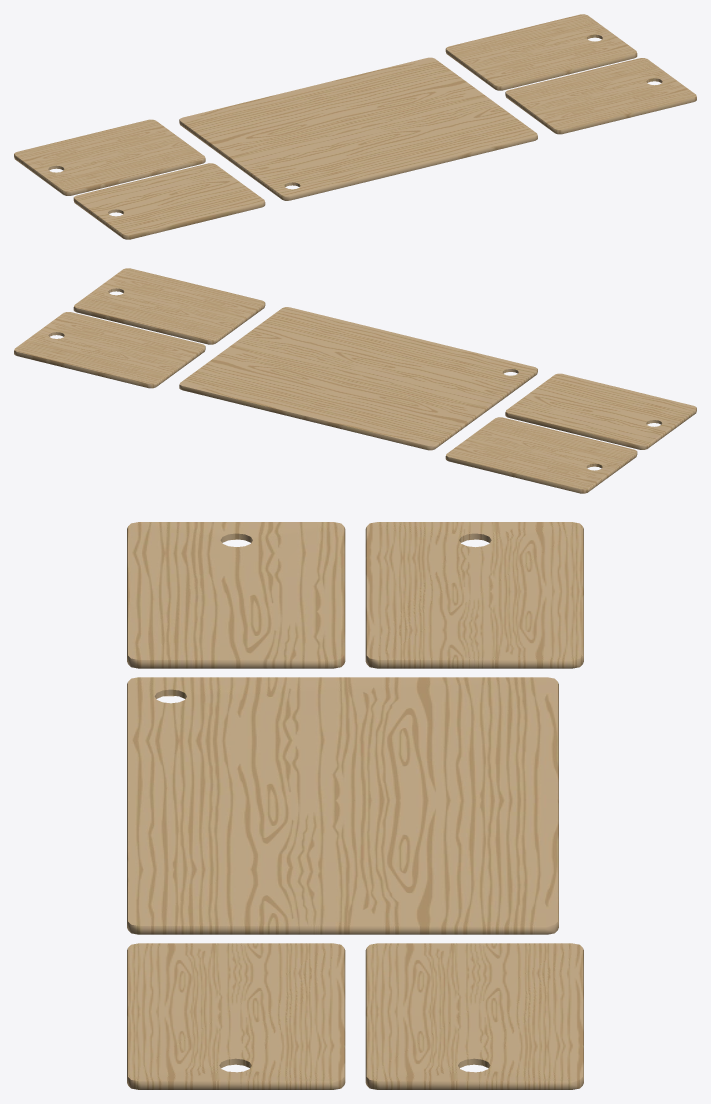
Rendered from CuttingBoards.fbx.
3 views of the same model, one above another, from view 1: azimuth 30°, elevation 25°; view 2: azimuth 150°, elevation 25°; view 3: azimuth 270°, elevation 25° (orthographic). The views are drawn at different scales.
Visible parts, largest first — view 1: Cutting Boards; view 2: Cutting Boards; view 3: Cutting Boards.
Part boxes in pixels (x1,y1,x2,y2): Cutting Boards: [14, 14, 696, 239]; Cutting Boards: [14, 268, 696, 493]; Cutting Boards: [127, 522, 583, 1089].
Size of the model in its own units: 194 by 1.41 by 66.84.
